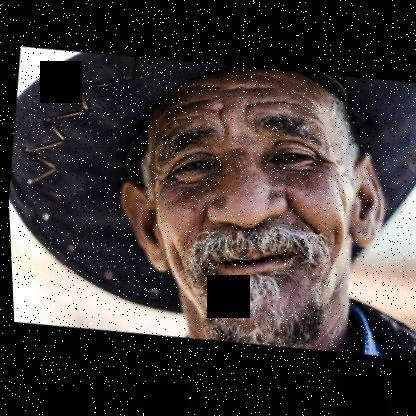Male: (100, 58, 404, 359)
